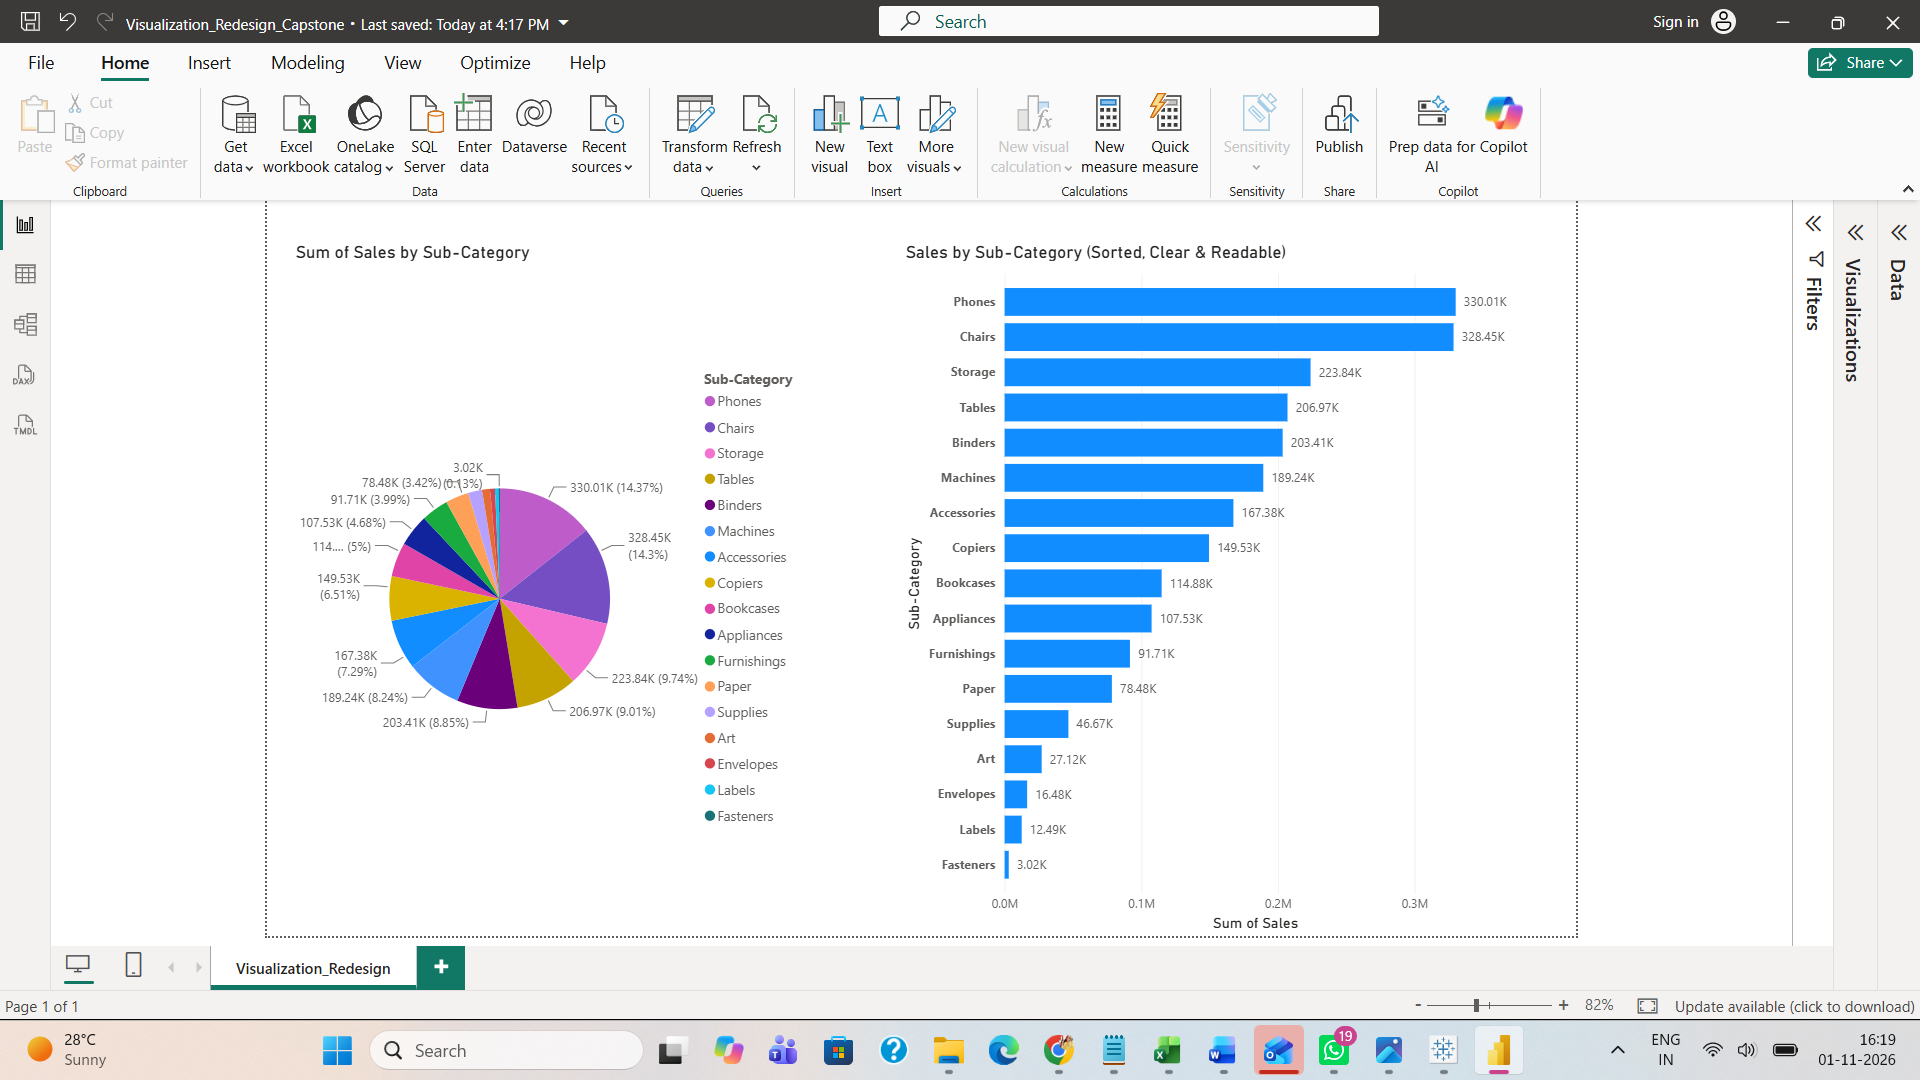

What the dashboard file says about the page in this screenshot:
{"tool":"powerbi","page":{"name":"Visualization_Redesign","canvas":[1280,720],"ordinal":0},"visuals":[{"type":"pieChart","fields":{"Category":["SampleSuperstore.Sub-Category"],"Y":["Sum(SampleSuperstore.Sales)"]},"box":[23.3,39.8,513.2,680.6],"z":0},{"type":"clusteredBarChart","title":"Sales by Sub-Category (Sorted, Clear & Readable)","fields":{"Category":["SampleSuperstore.Sub-Category"],"Y":["Sum(SampleSuperstore.Sales)"]},"box":[620.2,39.8,612,680.6],"z":1}]}

Visuals, with their boxes on the page's 1280x720 design canvas (x1, y1, x2, y2). These are canvas units, not pixel positions in the 1920x1080 screenshot, which may show the page scaled, cropped or inside an application window:
pieChart - SampleSuperstore.Sub-Category x Sum(SampleSuperstore.Sales): rect(23, 40, 536, 720)
"Sales by Sub-Category (Sorted, Clear & Readable)" clusteredBarChart: rect(620, 40, 1232, 720)
